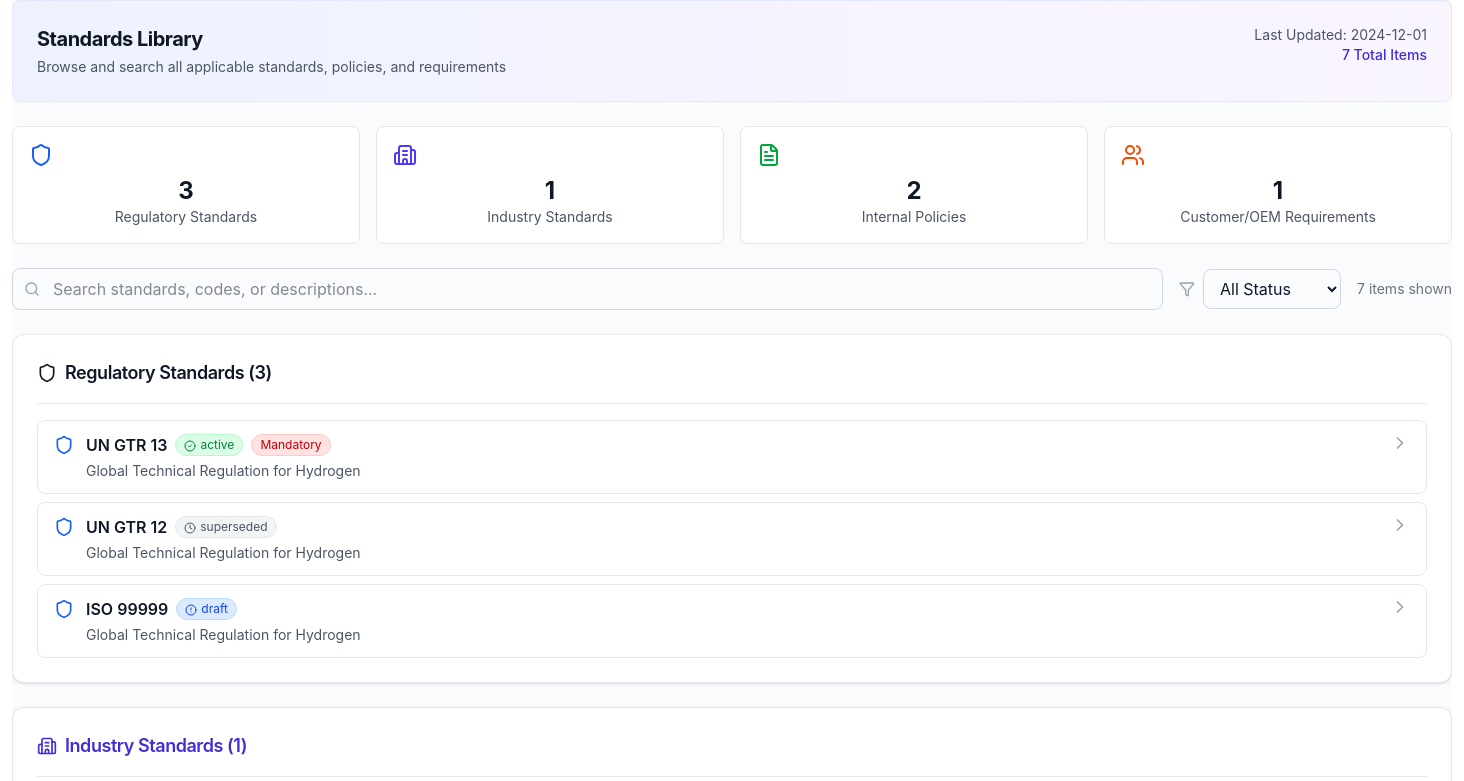
Test: StandardsLibraryPanel › Status Filtering › should filter by active status
The image size is (1464, 781).
Select "Active" in the dropdown at [1272, 289], box [1203,269,1341,309]
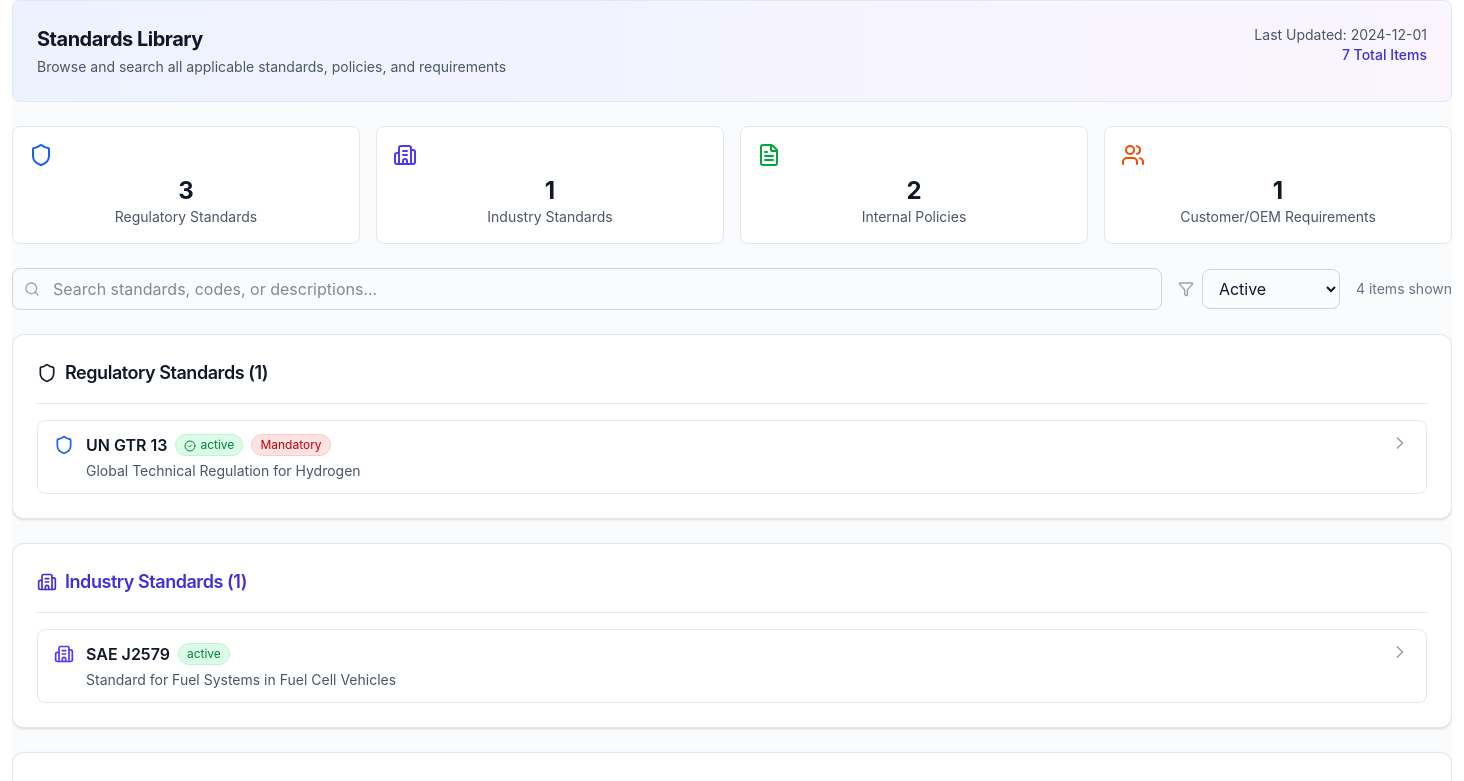
Expected: the text "UN GTR 13" is shown, [86,433,167,457]
Result: the button "UN GTR 12" is gone
